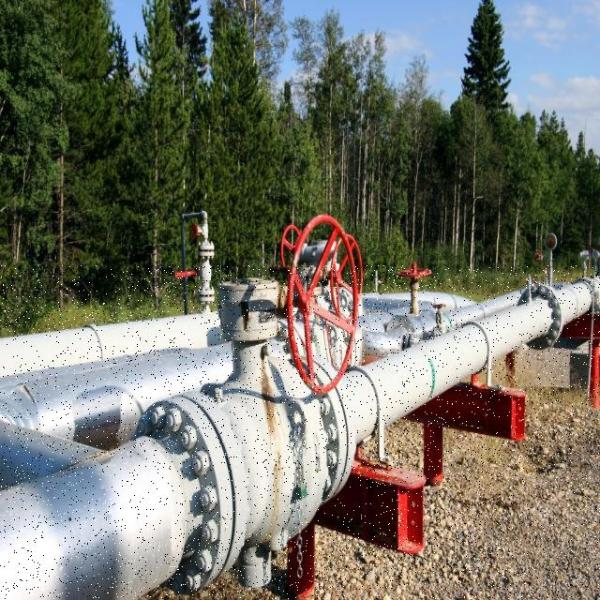water: (147, 337, 323, 468)
